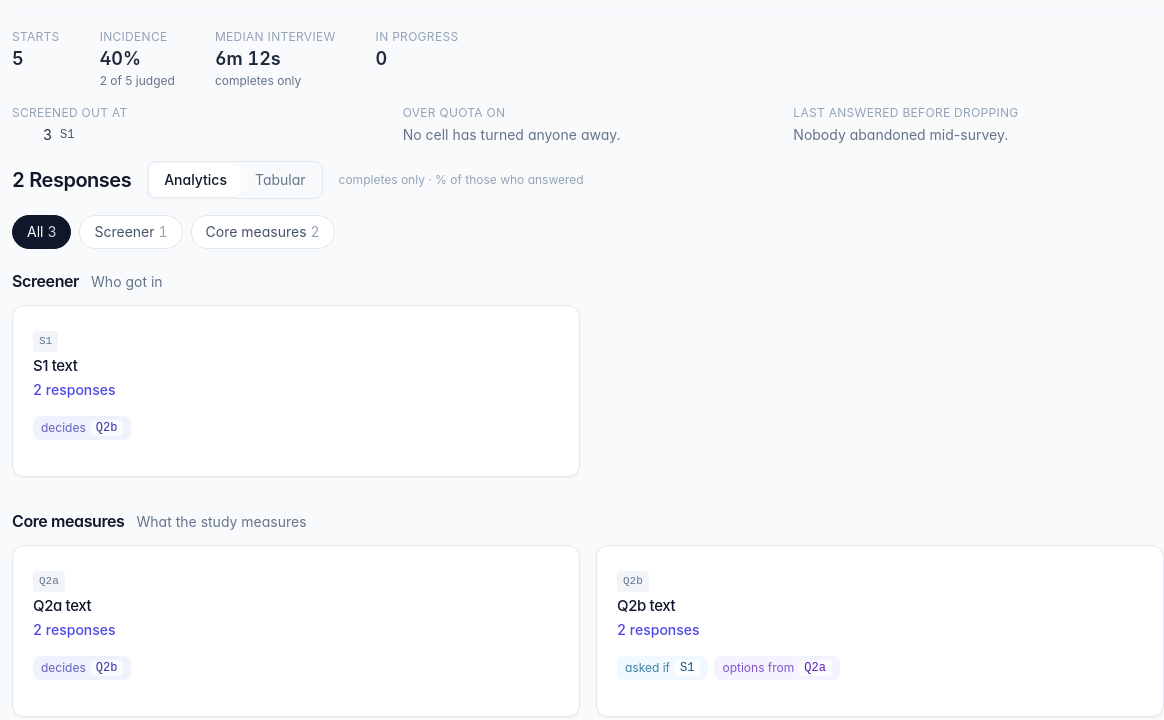
Test: FieldReportPanel › groups cards into buckets and follows a link across them
The width and height of the screenshot is (1164, 720).
Expected: the tab "Screener 1" is shown, [80,215,183,249]
Click the tab "Core measures 2" at (262, 232), box [190,215,334,249]
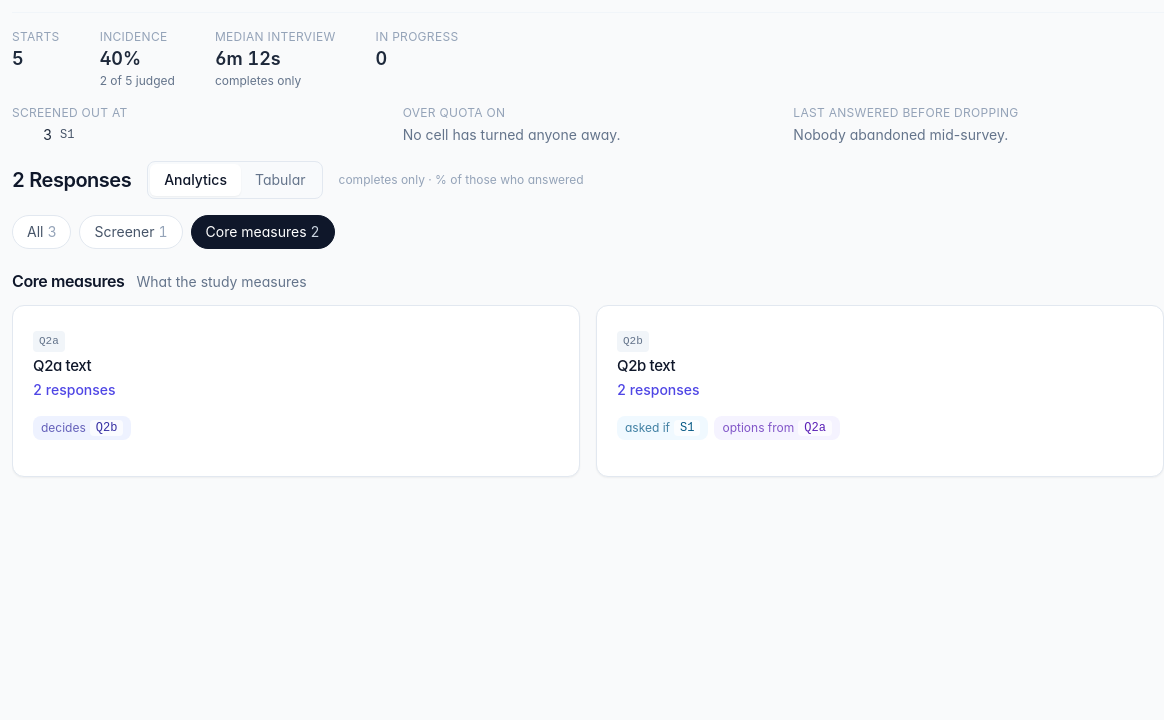
Expected: the heading "S1 text" is gone
# Q2b is asked if S1 — a screener, outside the filter. Following it shows all.
Click the button "S1" at (687, 428), box [674,420,700,436]
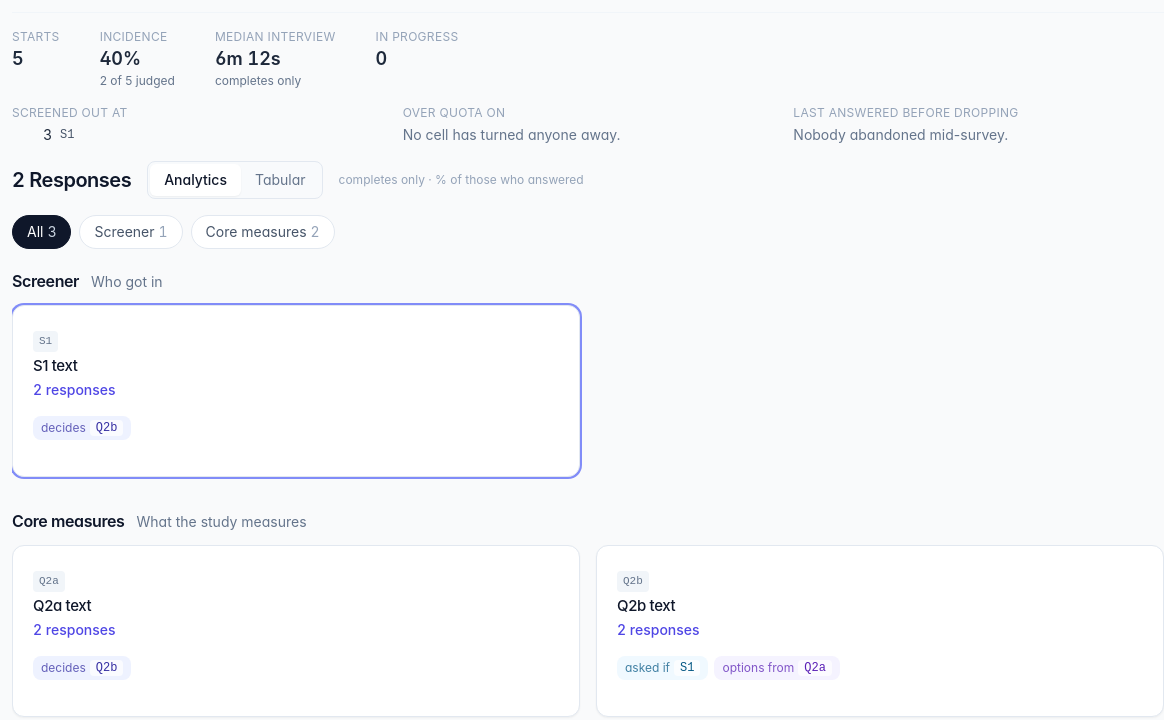
Expected: the heading "S1 text" is shown, [33,356,78,374]
